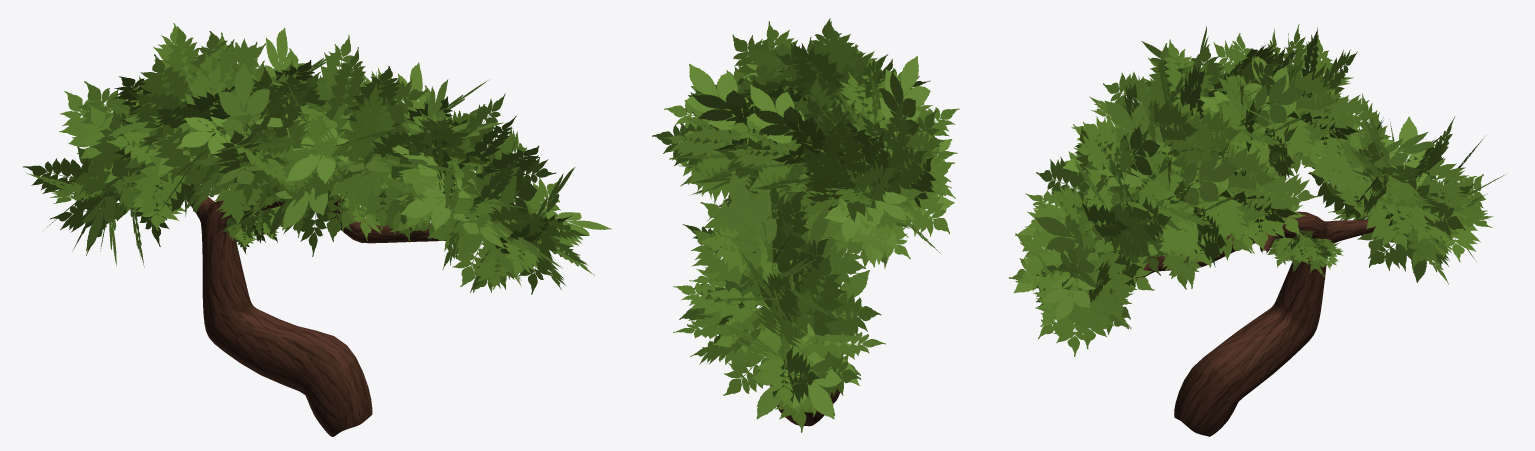
Rendered from SM_Common_Tree_04.glb.
The picture shows the model from 3 angles, left to right: view 1: azimuth 30°, elevation 25°; view 2: azimuth 150°, elevation 25°; view 3: azimuth 270°, elevation 25°; orthographic projection. The views are drawn at different scales.
Visible parts, largest first — view 1: SM_Common_Tree_04; view 2: SM_Common_Tree_04; view 3: SM_Common_Tree_04.
Part boxes in pixels (x1,y1,x2,y2): SM_Common_Tree_04: (23, 23, 611, 436); SM_Common_Tree_04: (652, 18, 959, 432); SM_Common_Tree_04: (1008, 24, 1505, 436).
Bounding box in the file's own units: 7.38 × 7.3 × 9.
2 materials, 2 textured.
